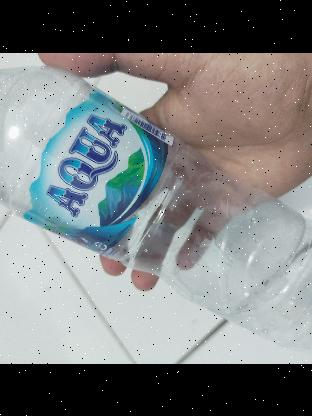Plastic Bottle: (0, 52, 312, 354)
